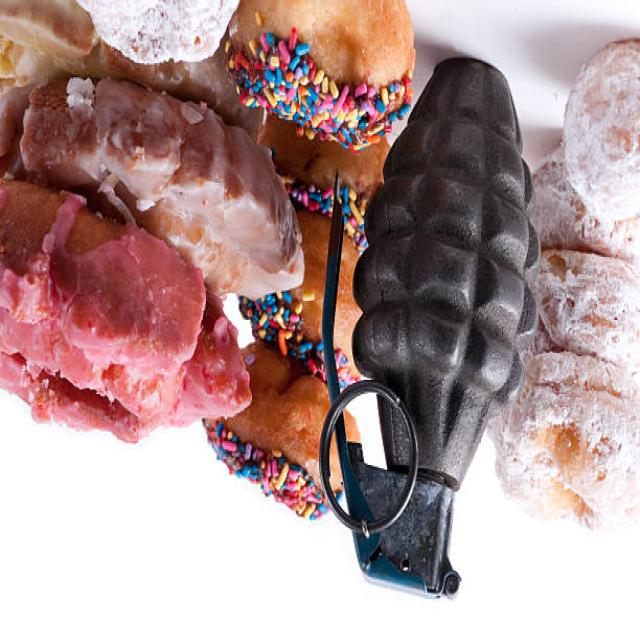grenade: (316, 48, 546, 614)
